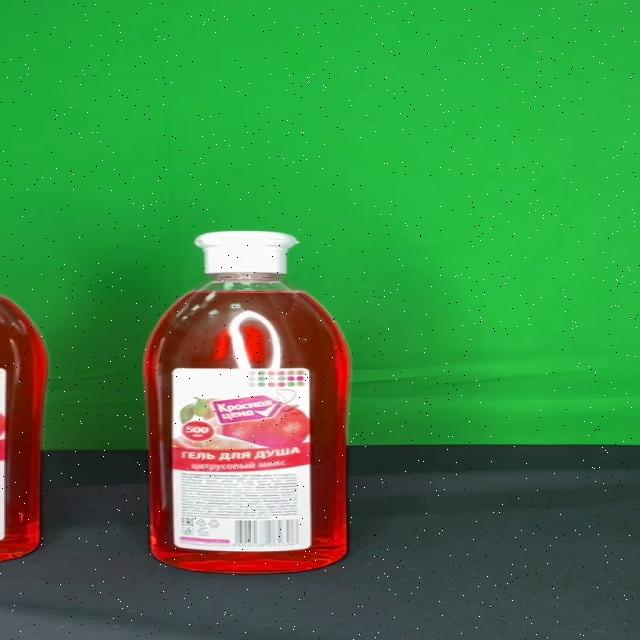Bottle: (144, 230, 352, 574)
Cap: (194, 231, 298, 274)
